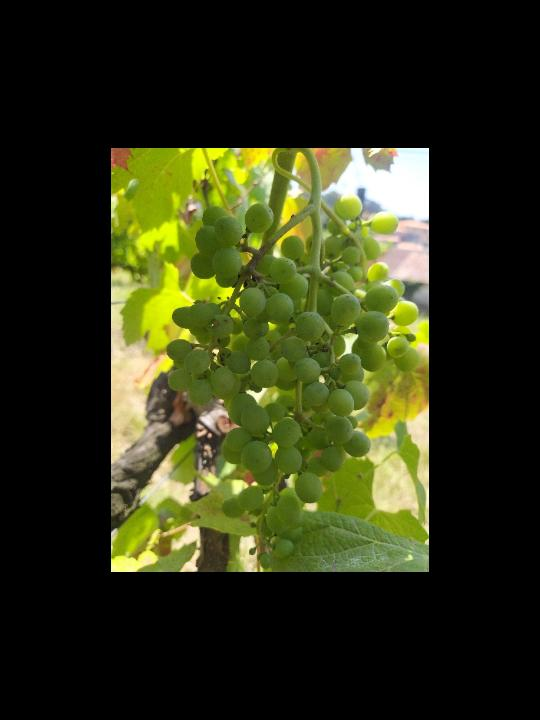grape: (166, 193, 419, 571)
